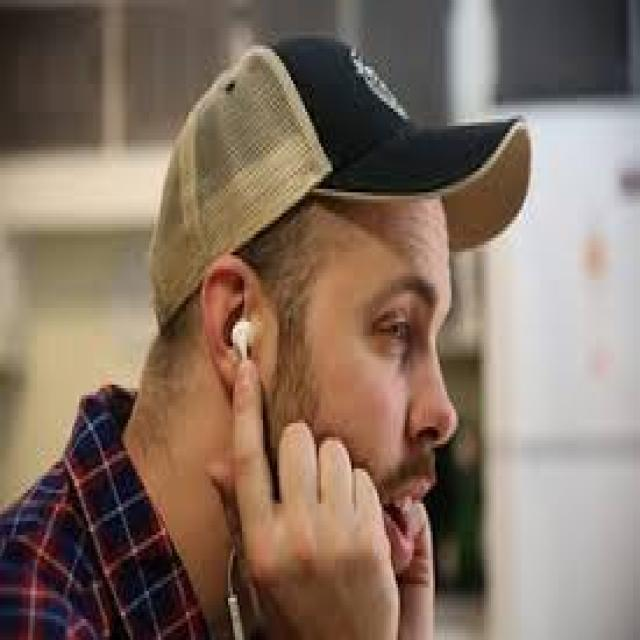cap: (119, 7, 549, 406)
